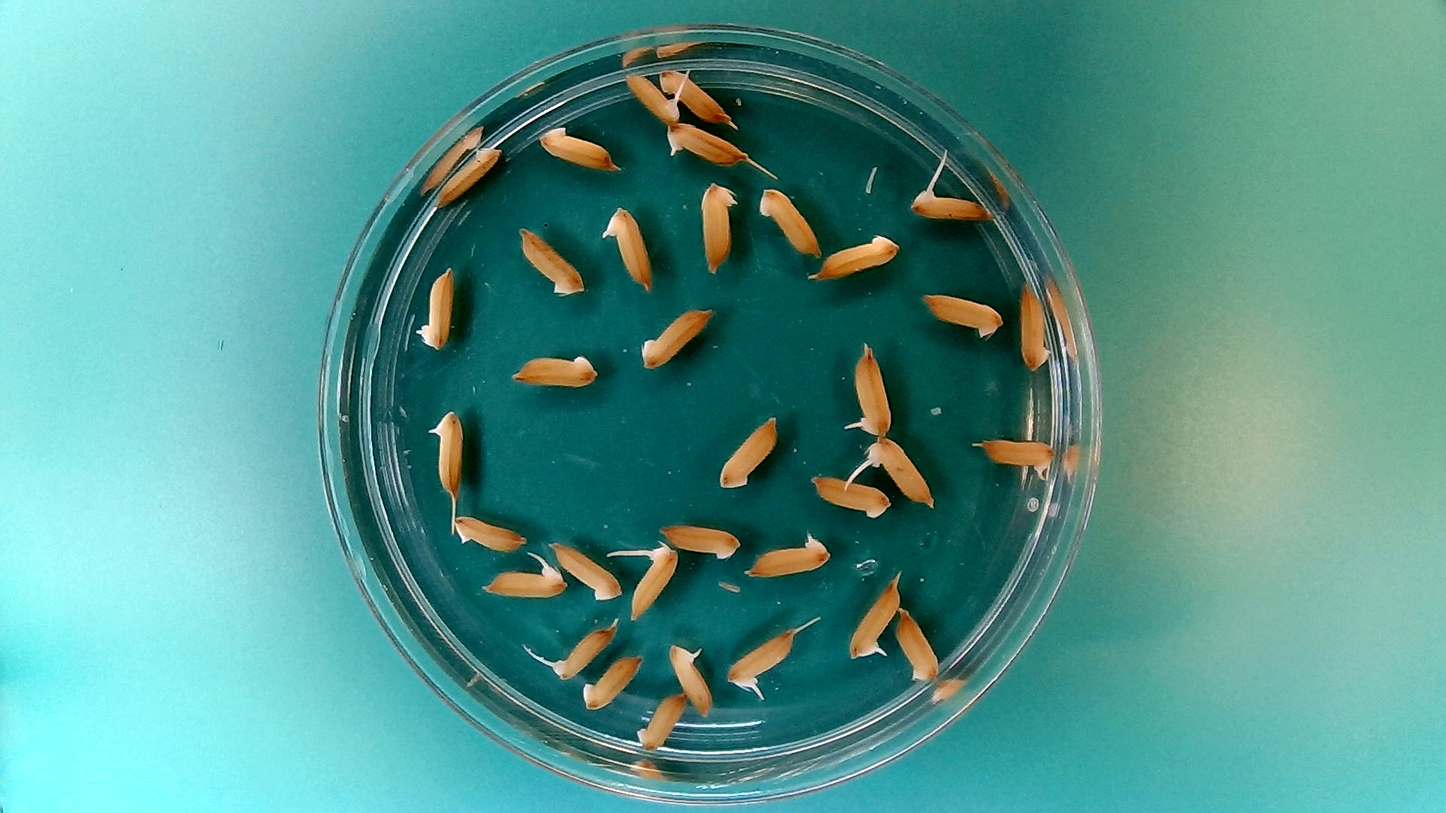no: (636, 302, 717, 373), (515, 222, 589, 299), (715, 413, 781, 492), (757, 183, 824, 257), (656, 65, 735, 127), (743, 528, 834, 580), (813, 229, 902, 282), (550, 540, 624, 602), (695, 178, 741, 274), (535, 122, 618, 172), (920, 293, 1007, 340), (809, 472, 893, 519), (892, 605, 941, 684), (413, 263, 456, 353), (579, 653, 644, 712), (1017, 277, 1054, 376), (438, 148, 501, 206), (509, 349, 598, 390), (447, 510, 531, 553), (636, 690, 689, 753), (657, 521, 740, 561)
yes: (599, 202, 656, 293), (846, 573, 903, 662), (859, 433, 934, 500), (723, 626, 797, 687), (627, 540, 682, 621), (850, 343, 894, 439), (664, 122, 749, 168), (480, 557, 568, 601), (554, 625, 621, 681), (668, 641, 716, 718), (426, 403, 466, 495), (623, 69, 682, 125), (980, 437, 1058, 477), (909, 185, 986, 222)
